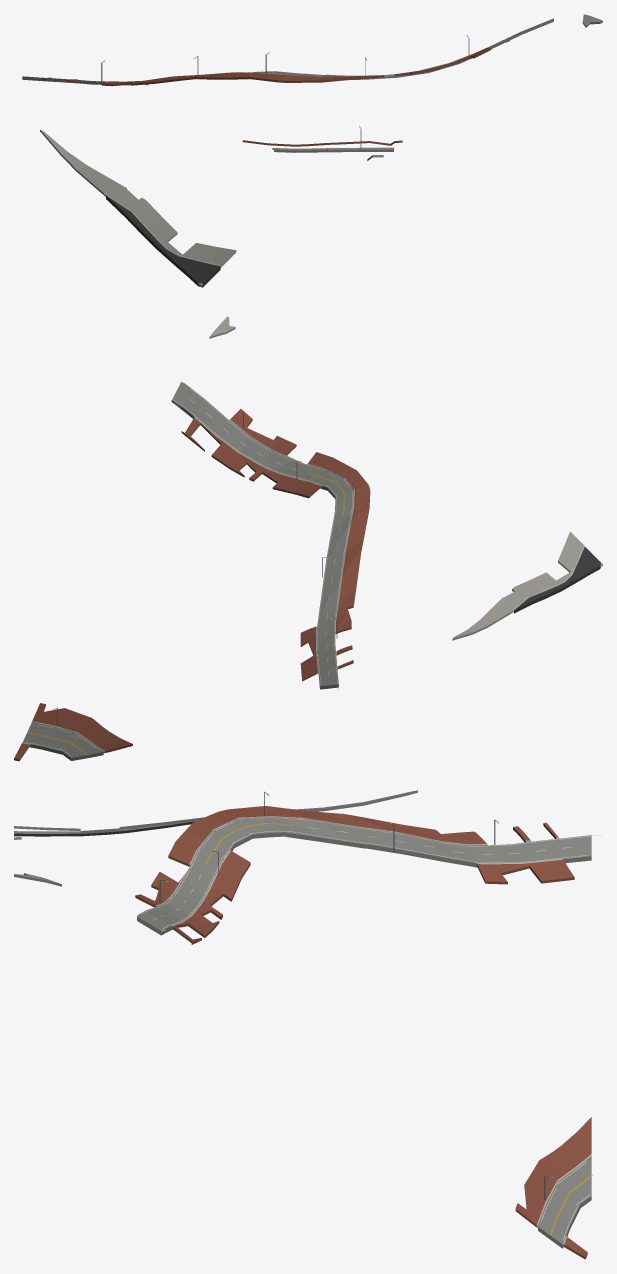
The model's file is 18-218935-118971.fdcd7cd3.glb.
The picture shows the model from 3 angles, top to bottom: view 1: azimuth 30°, elevation 25°; view 2: azimuth 150°, elevation 25°; view 3: azimuth 270°, elevation 25°; orthographic projection. The views are drawn at different scales.
Size of the model in its own units: 147 by 107 by 149.
